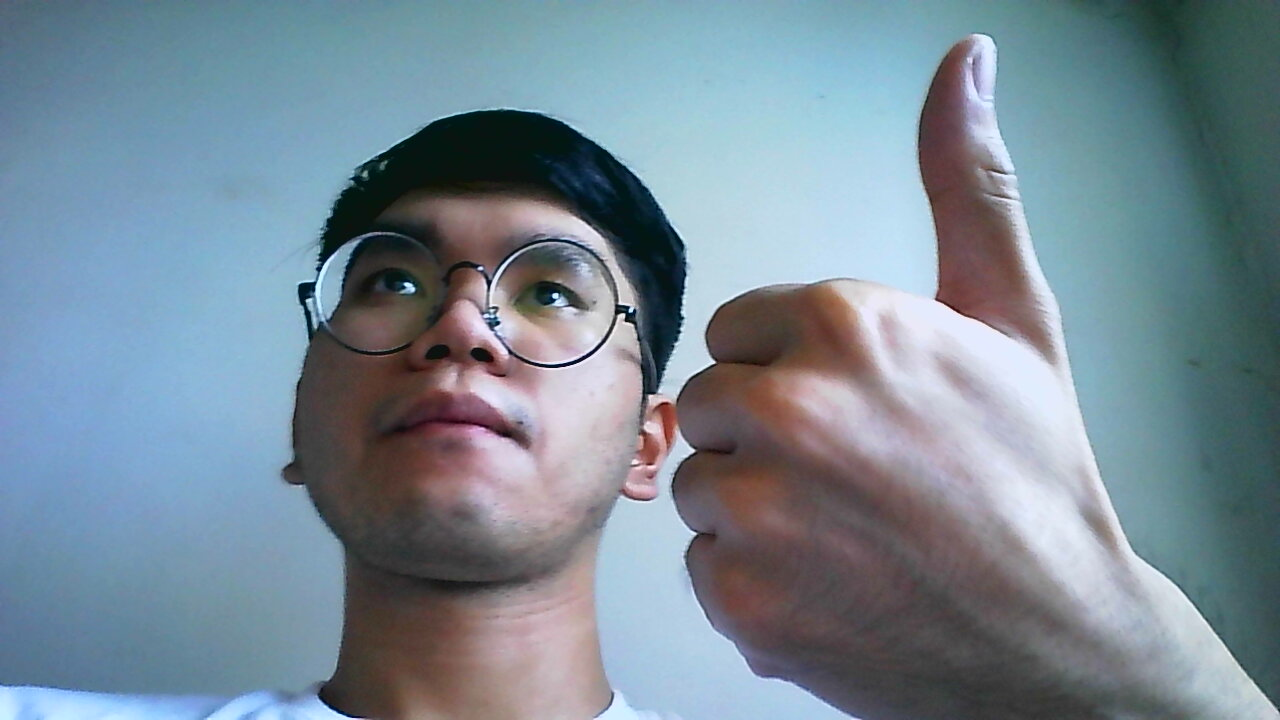thumbs: (676, 35, 1134, 720)
